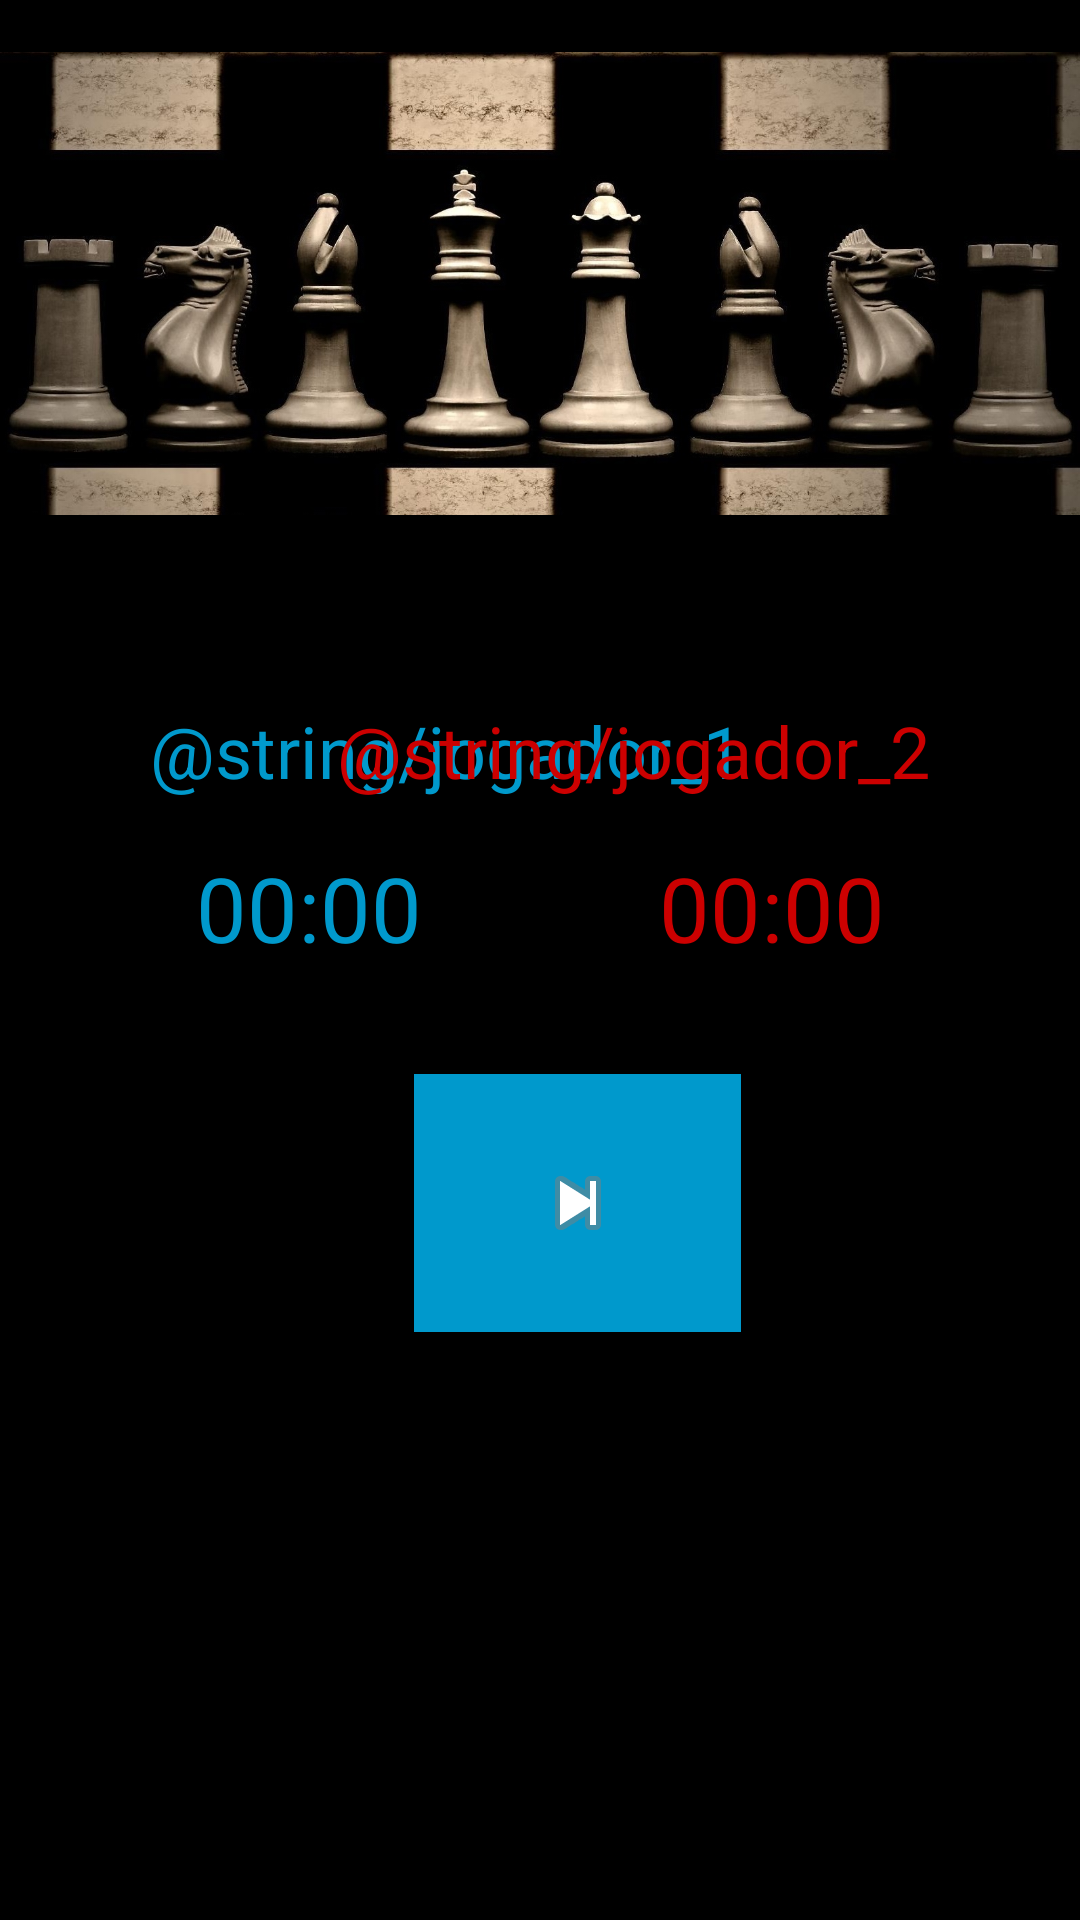

Screen size 1080w x 1920h. Icon name, then its box in pixels as (x1, y1, x2, y2):
next: (414, 1074, 741, 1332)
